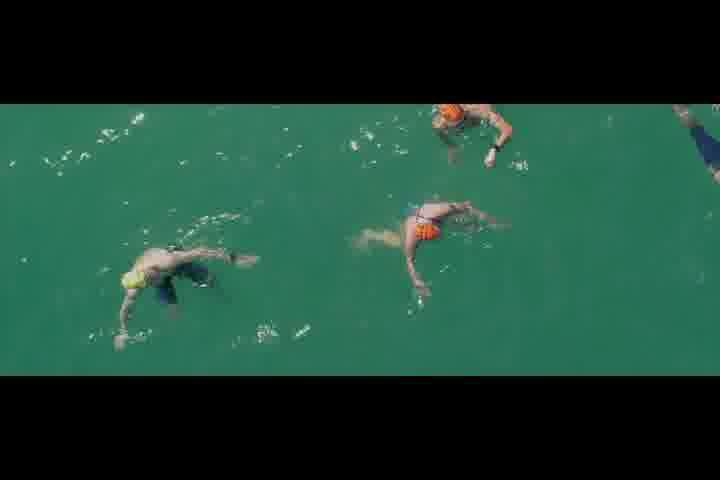human: (110, 238, 253, 344), (391, 191, 488, 314), (432, 103, 518, 172)
